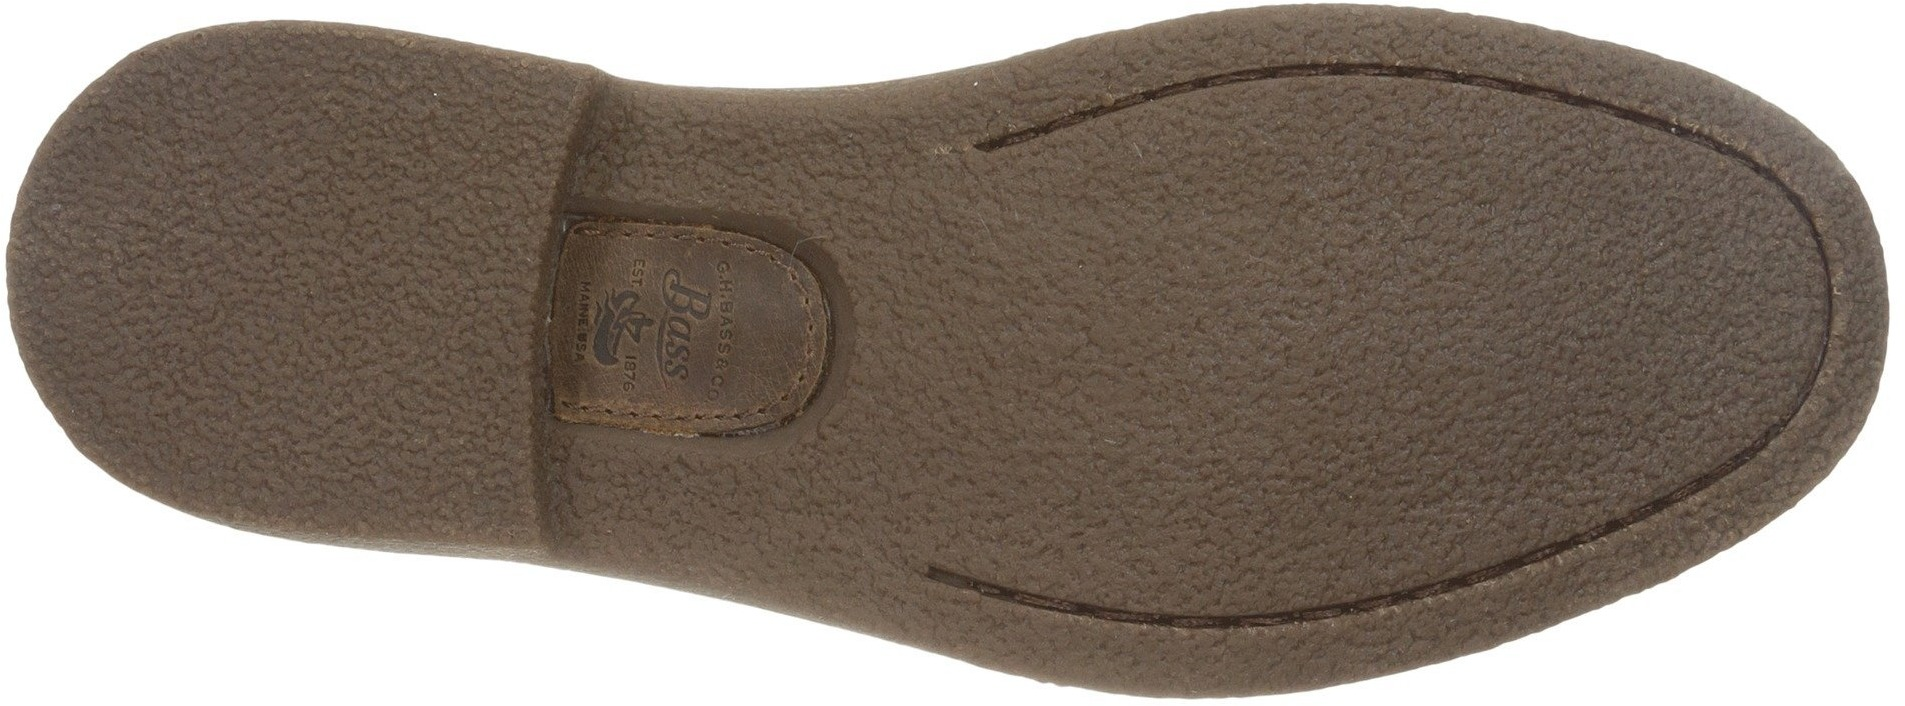exclude: (538, 49, 858, 642)
other: (1127, 105, 1479, 484), (1483, 148, 1773, 441), (859, 154, 1127, 411), (43, 151, 298, 414), (303, 57, 548, 293), (301, 300, 528, 509)
